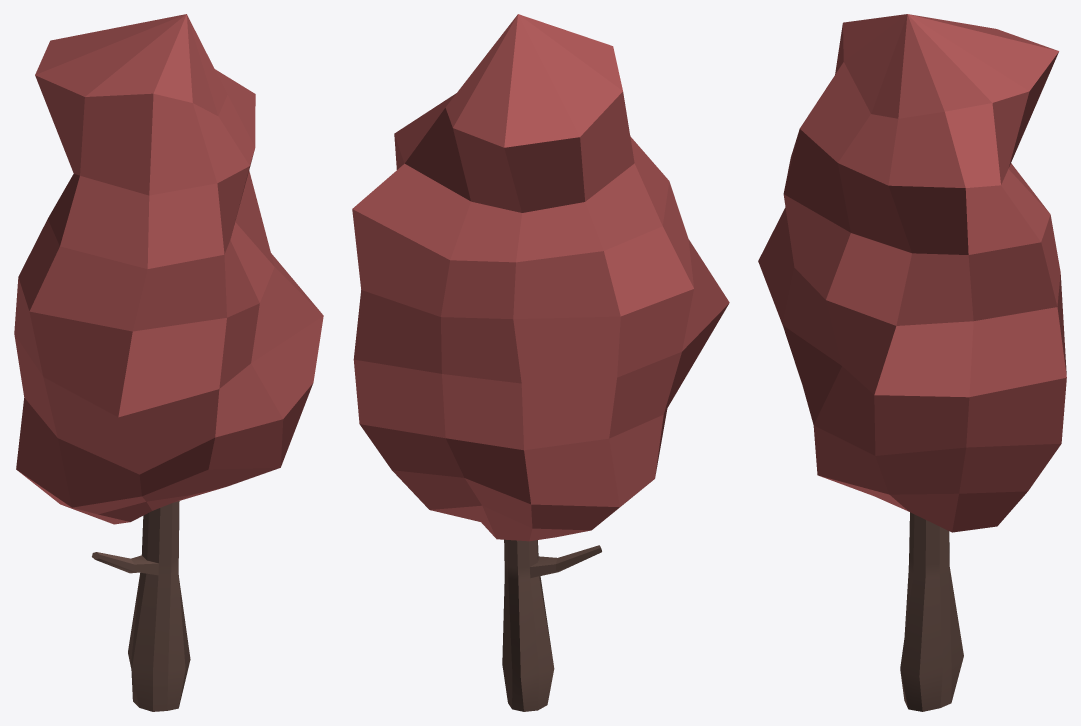
Rendered from tree009.fbx.
3 views of the same model, side by side, from view 1: azimuth 30°, elevation 25°; view 2: azimuth 150°, elevation 25°; view 3: azimuth 270°, elevation 25° (orthographic). The views are drawn at different scales.
Parts seen in each view (by area): view 1: tree009; view 2: tree009; view 3: tree009.
Part boxes in pixels (<box>): tree009: <box>14,14,323,711</box>; tree009: <box>352,14,729,711</box>; tree009: <box>758,14,1066,711</box>.
Size of the model in its own units: 9.5 by 8.46 by 21.14.
